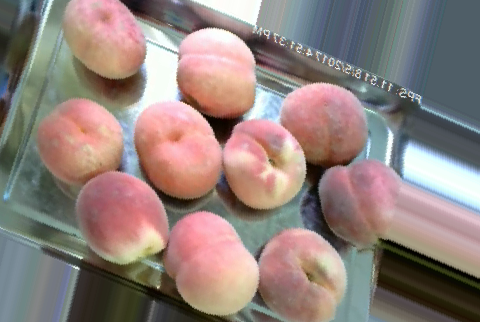Peach: (162, 211, 259, 316), (75, 168, 168, 268), (255, 228, 348, 322), (136, 101, 222, 198), (222, 117, 308, 210), (35, 97, 123, 186), (281, 80, 367, 171), (177, 24, 257, 116), (320, 159, 399, 248), (59, 0, 148, 77)
